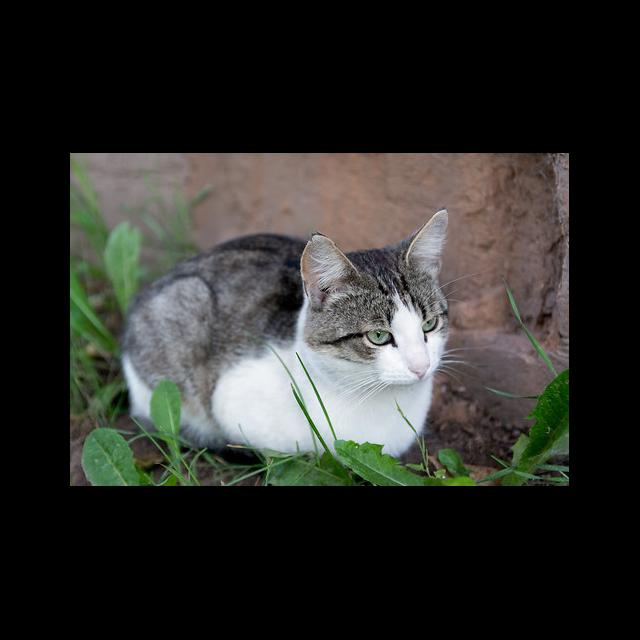animals: (122, 210, 450, 457)
